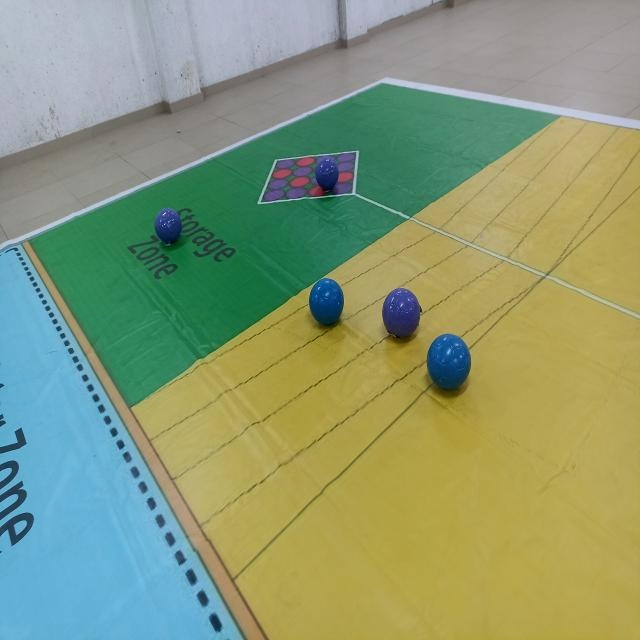blue_ball: (425, 334, 471, 394), (308, 281, 347, 329)
purple_ball: (379, 284, 424, 342), (154, 208, 183, 245), (315, 157, 340, 191)
